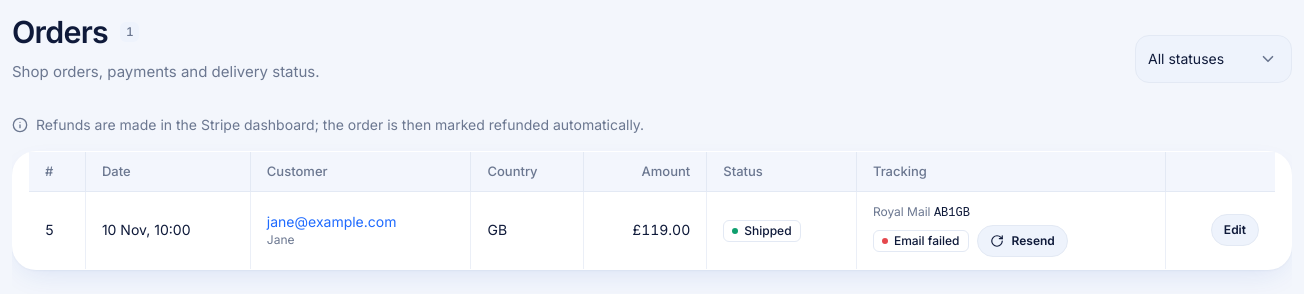
OrdersPage › a dispatch email that failed: shown, and Resend does not touch the order
expect the element with test id "ship-email-5" shows "Email failed": met, box [894,233,960,248]
Click the button "Resend" at (1022, 241), box [976,225,1068,257]
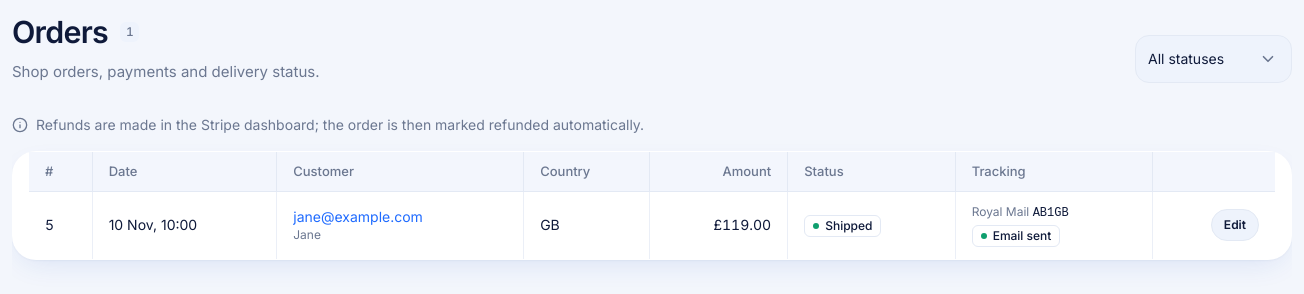
expect the element with test id "ship-email-5" reads "Email sent": met, box [993,228,1051,243]
expect the button "Resend" is gone: met
